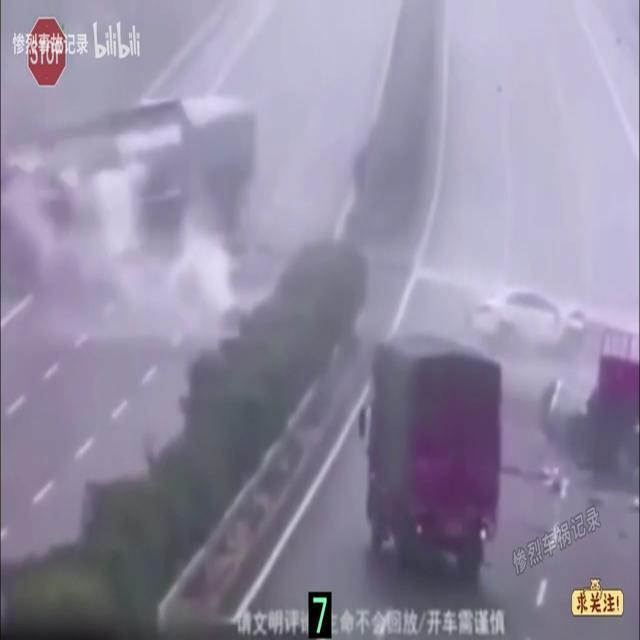accident: (1, 96, 392, 366), (464, 280, 640, 512)
